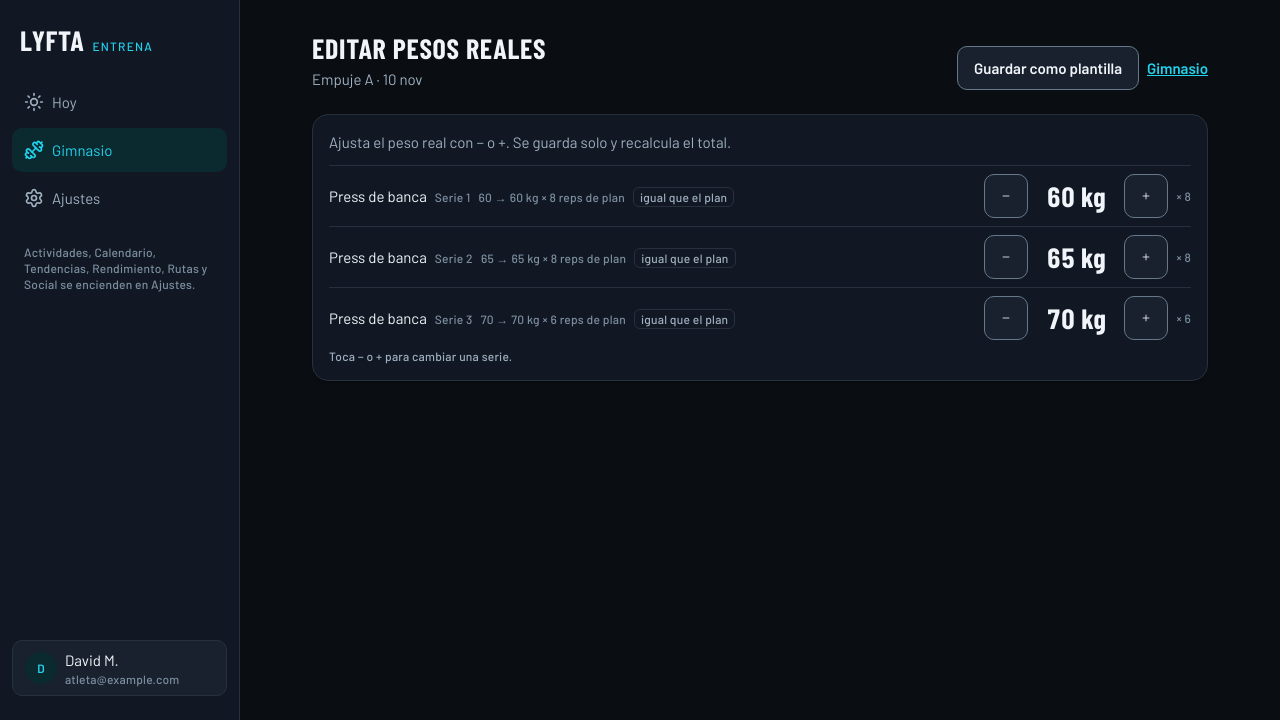
Test: guardar una sesión como plantilla › crea la plantilla con los pesos reales de la sesión
This screenshot has width=1280, height=720.
expect the heading "Editar pesos reales" is shown: met, box [312,32,546,64]
Click the button "Guardar como plantilla". click: coordinates (1048, 68)
box: [957,46,1139,90]
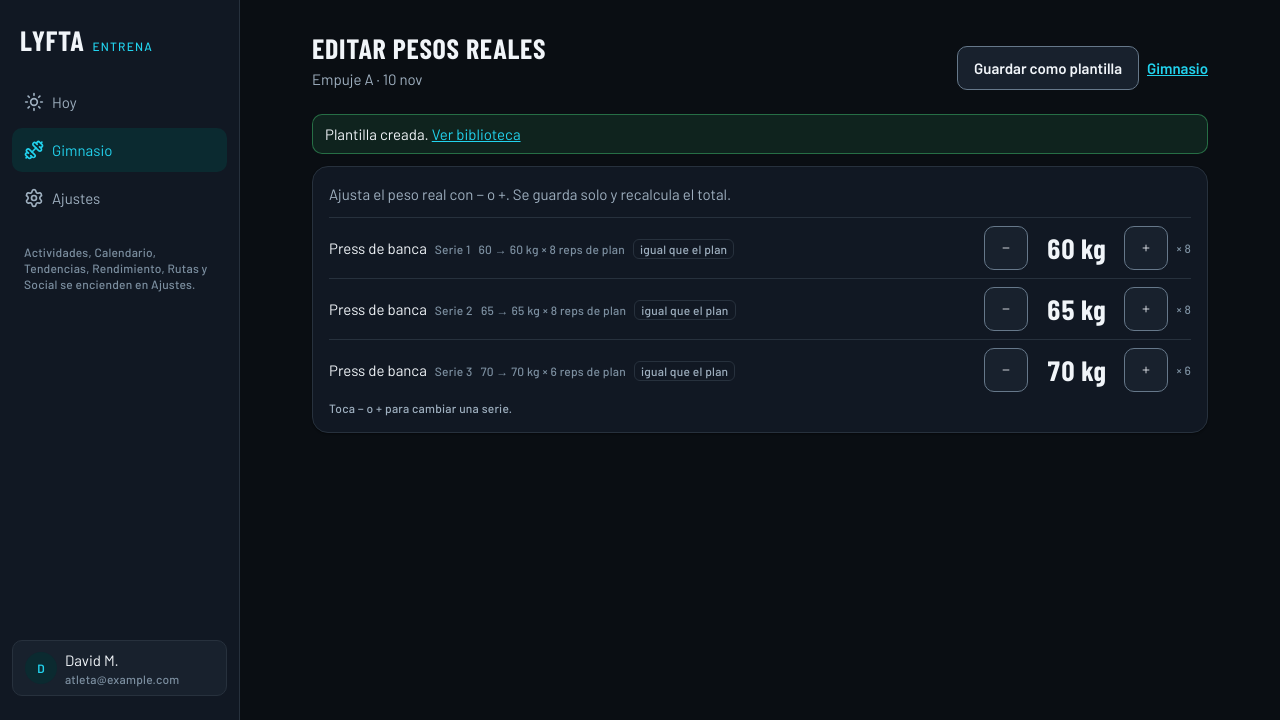
expect the text "Plantilla creada. Ver biblioteca" is shown: met, box [312,114,1208,154]
